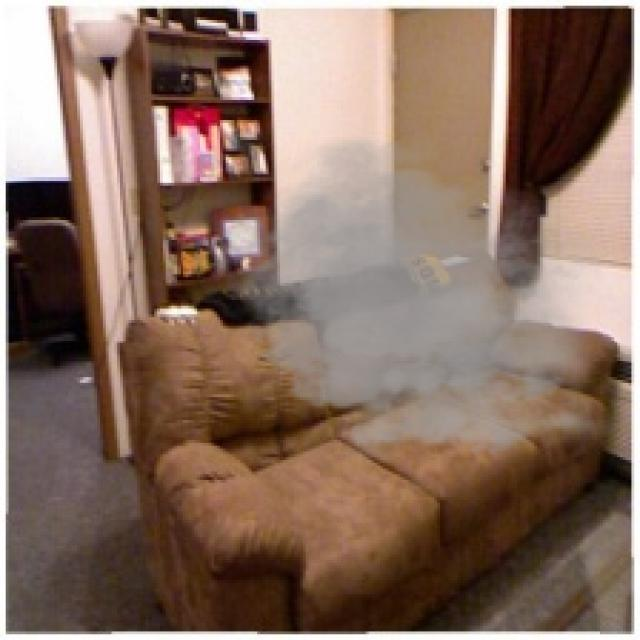smoke: (211, 126, 626, 471)
